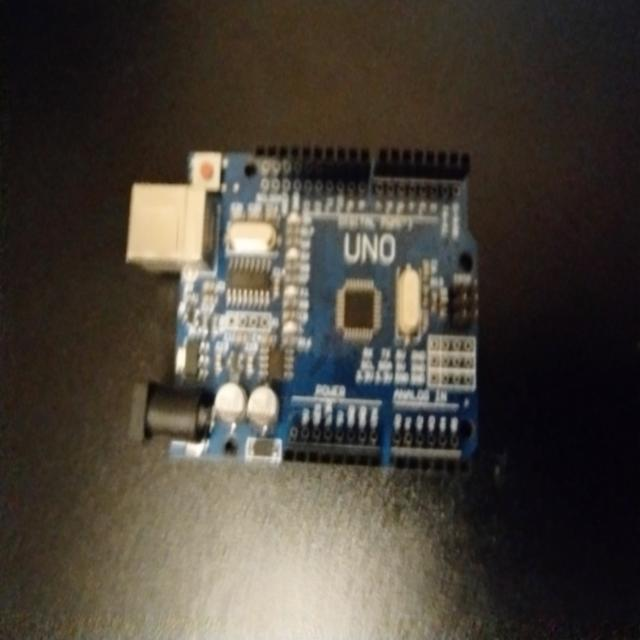arduino: (149, 136, 496, 478)
